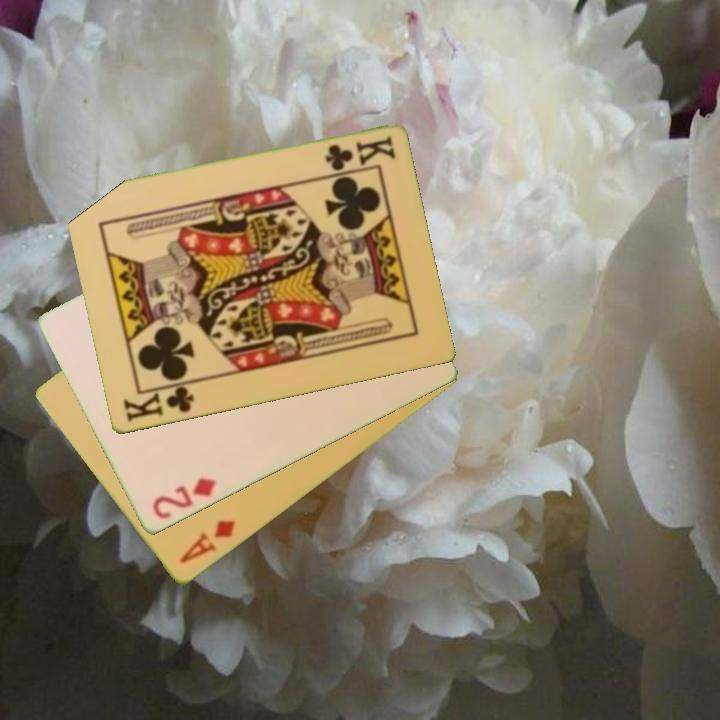2d: (148, 474, 219, 523)
Ad: (176, 517, 239, 567)
Kc: (119, 379, 198, 426), (321, 132, 398, 174)
